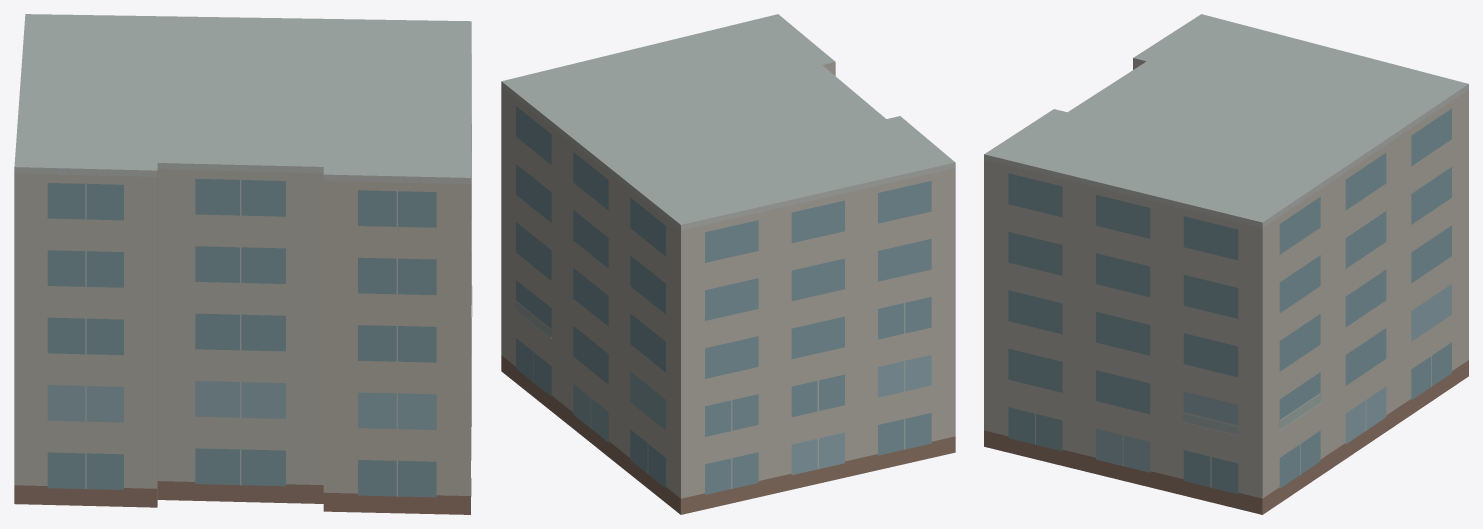
File: survey-upis-32890702.glb
3 renders of one model, left to right at view 1: azimuth 30°, elevation 25°; view 2: azimuth 150°, elevation 25°; view 3: azimuth 270°, elevation 25°, orthographic. The views are drawn at different scales.
Parts seen in each view (by area): view 1: survey-upis-32890702.tmp; view 2: survey-upis-32890702.tmp; view 3: survey-upis-32890702.tmp.
Part boxes in pixels (bbox=[...]): survey-upis-32890702.tmp: bbox=[14, 14, 472, 514]; survey-upis-32890702.tmp: bbox=[501, 14, 955, 514]; survey-upis-32890702.tmp: bbox=[984, 14, 1468, 514].
Bounding box in the file's own units: 19.89 × 13 × 19.54.
